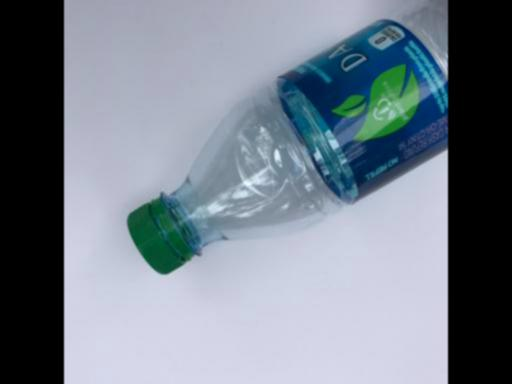PET: (125, 0, 447, 275)
dasani: (125, 0, 447, 275)
plastic: (125, 0, 447, 275)
water: (125, 0, 447, 275)
